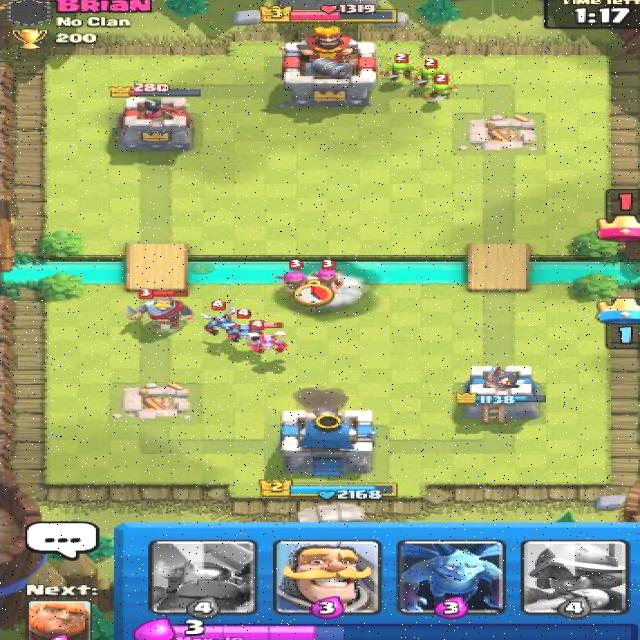Enemy-Archer: (271, 257, 315, 294), (307, 258, 349, 296)
Enemy-Goblin: (421, 73, 465, 106), (407, 58, 452, 89), (380, 52, 421, 84)
Enemy-Knight: (123, 288, 199, 334)
Enemy-Minion: (197, 298, 244, 338), (242, 319, 291, 356), (224, 306, 266, 343)
